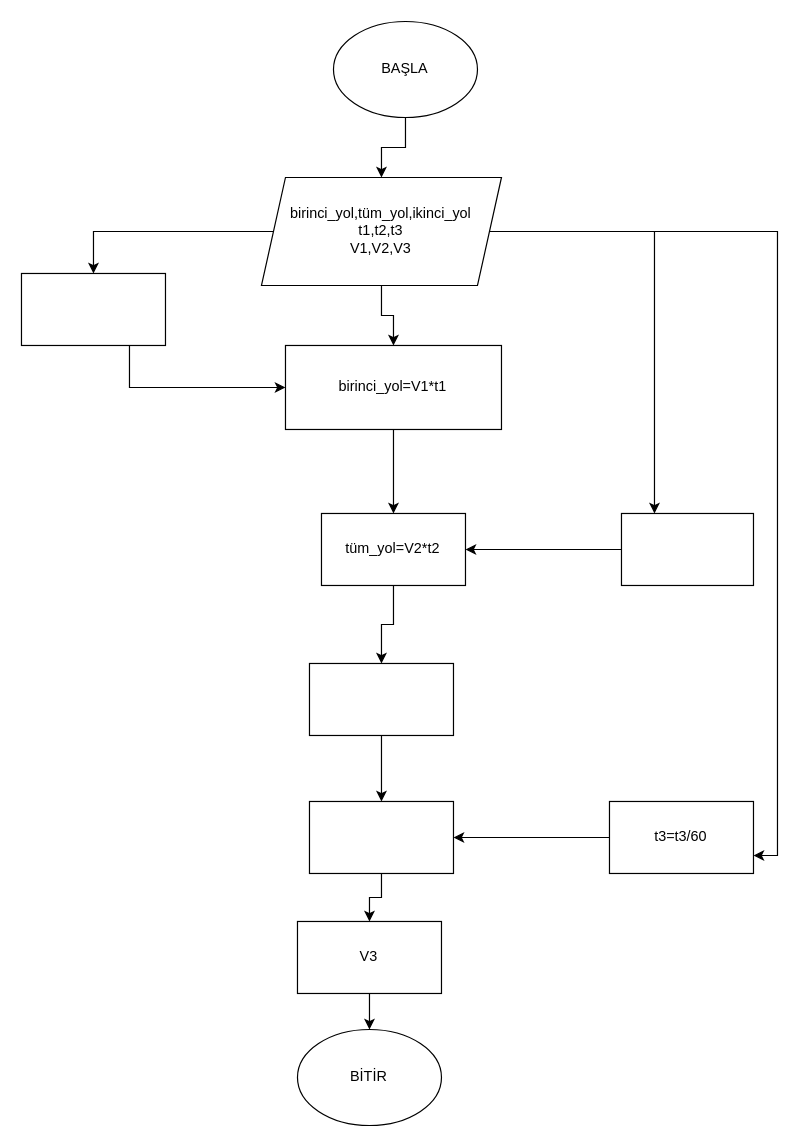
Some shapes in this 808 by 1146 pixel diagram are drawn without their labels. The shapes that lost their labels are listed below. From the top down, each one's centre as x and y in pixels, then its label:
At (x=92, y=308): "t1=t1/60".
At (x=686, y=548): "t2=t2/60".
At (x=380, y=698): "ikinci_yol=tüm_yol-birinci_yol".
At (x=380, y=836): "V3=t3/ikinci_yol".
